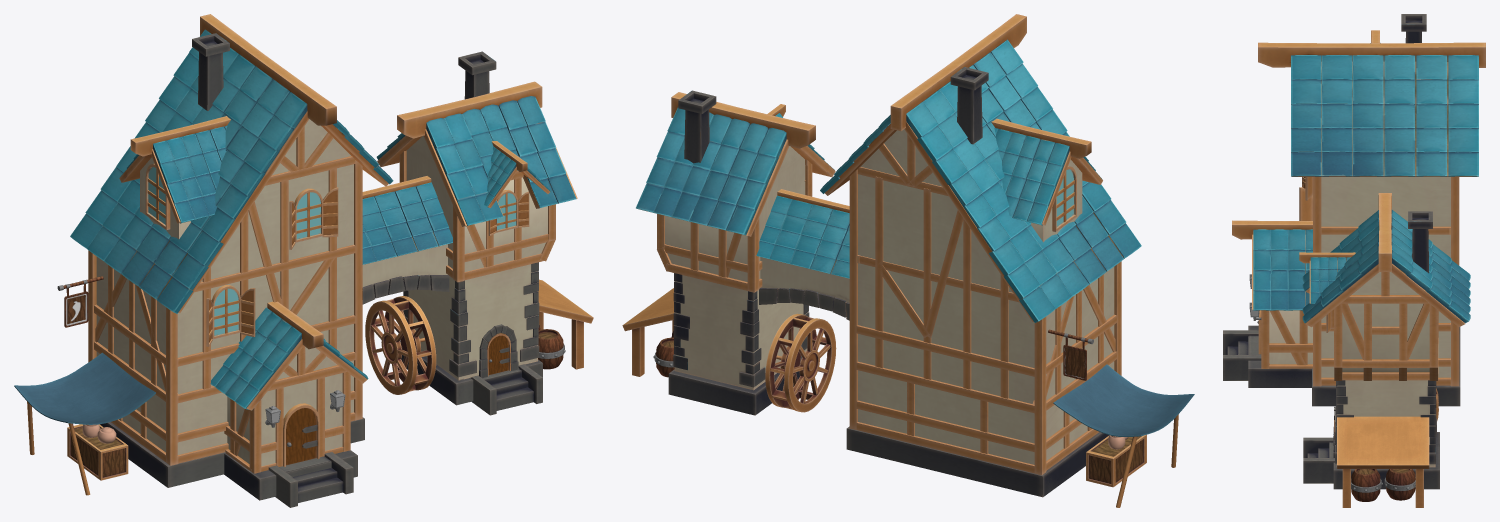
File: StylizedHouse_preFab_2.fbx
3 renders of one model, left to right at view 1: azimuth 30°, elevation 25°; view 2: azimuth 150°, elevation 25°; view 3: azimuth 270°, elevation 25°, orthographic. The views are drawn at different scales.
Visible parts, largest first — view 1: Roof_long1, LargeHouse_body1, Roof_notched1, BrickBase1, Roof2, Roof3, Tarp_roof1, Roof4, Water_Mill1, Tower_top1, House_body2, Bridge_body1 (+40 smaller); view 2: LargeHouse_body1, Roof_long1, Roof_notched1, BrickBase1, Roof2, Tarp_roof1, Roof4, Foundation1, Water_Mill1, Tower_top1, Bridge_body1, Foundation3 (+24 smaller); view 3: Roof_long1, Roof_notched1, LargeHouse_body1, Side_Roof1, Roof3, Tower_top1, BrickBase1, Stairs1, Foundation2, Roof5, Stairs2, Wood58 (+23 smaller).
Part boxes in pixels (box(x1,y1,x2,y2)): Roof_long1: box(70, 14, 393, 313); LargeHouse_body1: box(96, 119, 353, 454); Roof_notched1: box(376, 81, 577, 226); BrickBase1: box(403, 262, 539, 380); Roof2: box(119, 116, 230, 223); Roof3: box(210, 301, 368, 410); Tarp_roof1: box(14, 352, 155, 495); Roof4: box(362, 176, 452, 264); Water_Mill1: box(365, 296, 436, 394); Tower_top1: box(406, 136, 547, 271); House_body2: box(227, 347, 342, 466); Bridge_body1: box(362, 244, 449, 304); LargeHouse_body1: box(858, 129, 1114, 464); Roof_long1: box(820, 14, 1141, 322); Roof_notched1: box(636, 92, 835, 236); BrickBase1: box(673, 273, 809, 390); Roof2: box(991, 118, 1102, 225); Tarp_roof1: box(1053, 364, 1194, 507); Roof4: box(756, 189, 849, 278); Foundation1: box(846, 426, 1108, 497); Water_Mill1: box(765, 313, 836, 412); Tower_top1: box(665, 146, 805, 281); Bridge_body1: box(759, 257, 849, 320); Foundation3: box(668, 356, 801, 415); Roof_long1: box(1258, 42, 1485, 176); Roof_notched1: box(1302, 193, 1470, 327); LargeHouse_body1: box(1321, 177, 1450, 377); Side_Roof1: box(1337, 416, 1429, 507); Roof3: box(1232, 220, 1312, 310); Tower_top1: box(1342, 272, 1429, 372); BrickBase1: box(1335, 380, 1436, 467); Stairs1: box(1223, 330, 1261, 380); Foundation2: box(1248, 325, 1311, 387); Roof5: box(1299, 252, 1355, 303); Stairs2: box(1303, 437, 1334, 483); Wood58: box(1451, 177, 1459, 386).
Bounding box in the file's own units: 250 × 175 × 120.
Materials: 2 (2 with a texture image).
